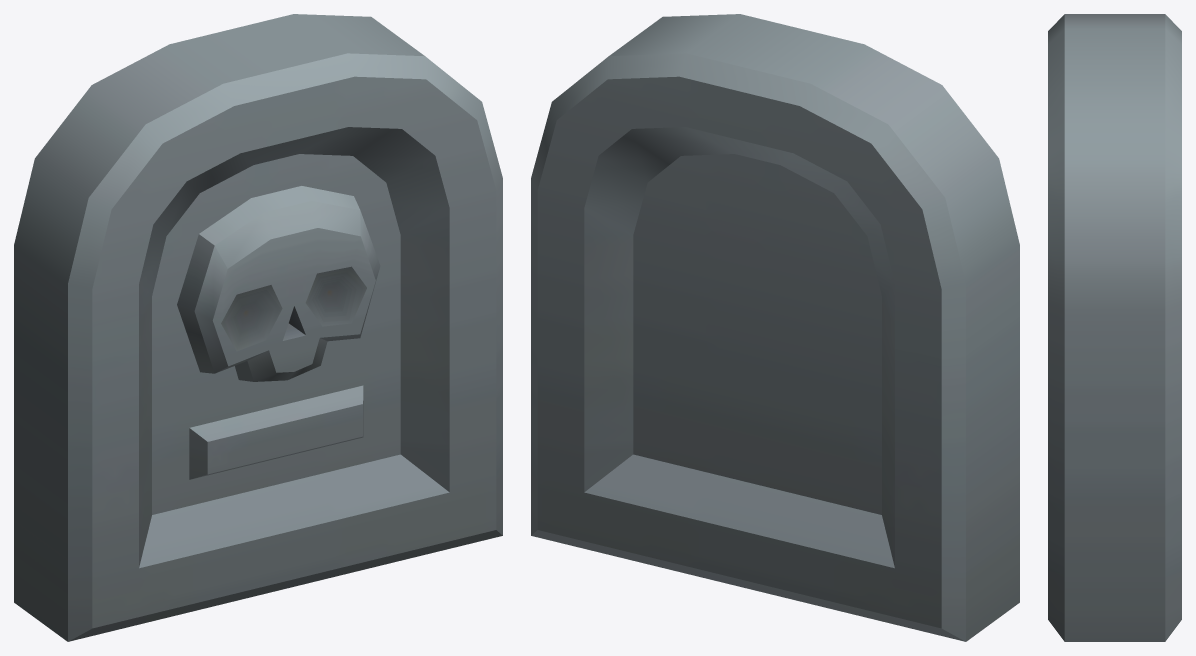
File: gravestone.glb
3 renders of one model, left to right at view 1: azimuth 30°, elevation 25°; view 2: azimuth 150°, elevation 25°; view 3: azimuth 270°, elevation 25°, orthographic. The views are drawn at different scales.
Parts seen in each view (by area): view 1: gravestone; view 2: gravestone; view 3: gravestone.
Part boxes in pixels (x1,y1,x2,y2): gravestone: (14, 14, 502, 641); gravestone: (531, 14, 1019, 641); gravestone: (1048, 14, 1181, 641).
Bounding box in the file's own units: 1.4 × 1.6 × 0.4.
Materials: 1 (1 with a texture image).
